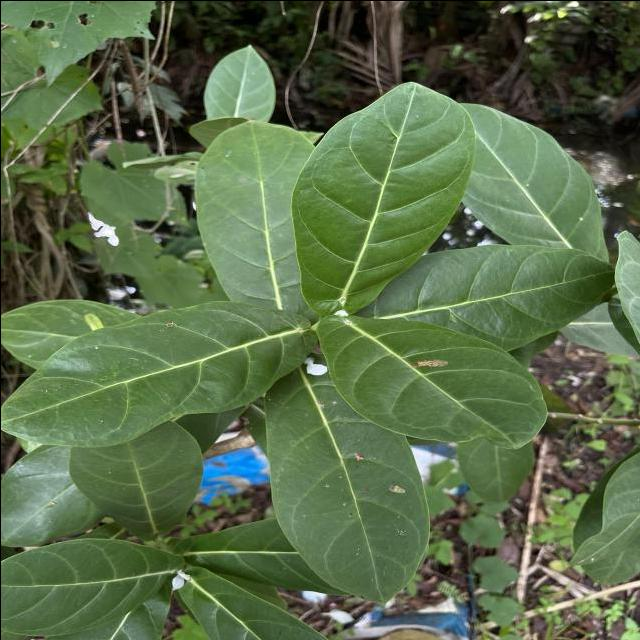Calotropis gigantea: (0, 297, 320, 449), (288, 78, 477, 316), (262, 358, 430, 608), (313, 311, 548, 449), (382, 240, 612, 350), (191, 115, 316, 315), (459, 100, 610, 252), (0, 535, 186, 638), (201, 42, 277, 117)
